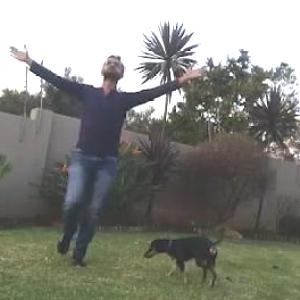takeoff: (8, 50, 192, 260)
